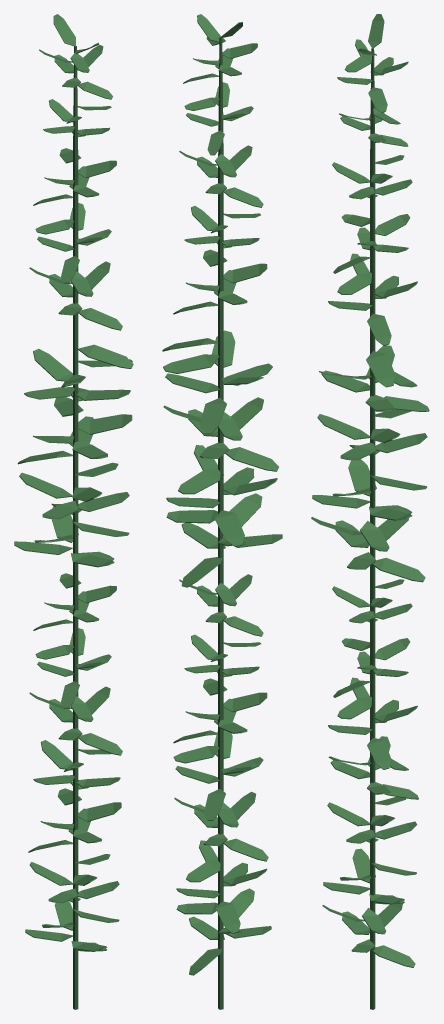
Rendered from Seaweed_006.glb.
3 views of the same model, side by side, from view 1: azimuth 30°, elevation 25°; view 2: azimuth 210°, elevation 25°; view 3: azimuth 330°, elevation 25° (orthographic).
Parts seen in each view (by area): view 1: Seaweed_006; view 2: Seaweed_006; view 3: Seaweed_006.
Part boxes in pixels (left/top/right/bottom): Seaweed_006: left=14, top=14, right=133, bottom=1009; Seaweed_006: left=162, top=14, right=282, bottom=1009; Seaweed_006: left=311, top=14, right=429, bottom=1009.
Bounding box in the file's own units: 0.6473 × 6.03 × 0.644.
1 material, 1 textured.
